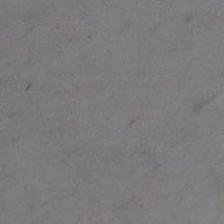Non_Crack: (18, 18, 224, 224)
